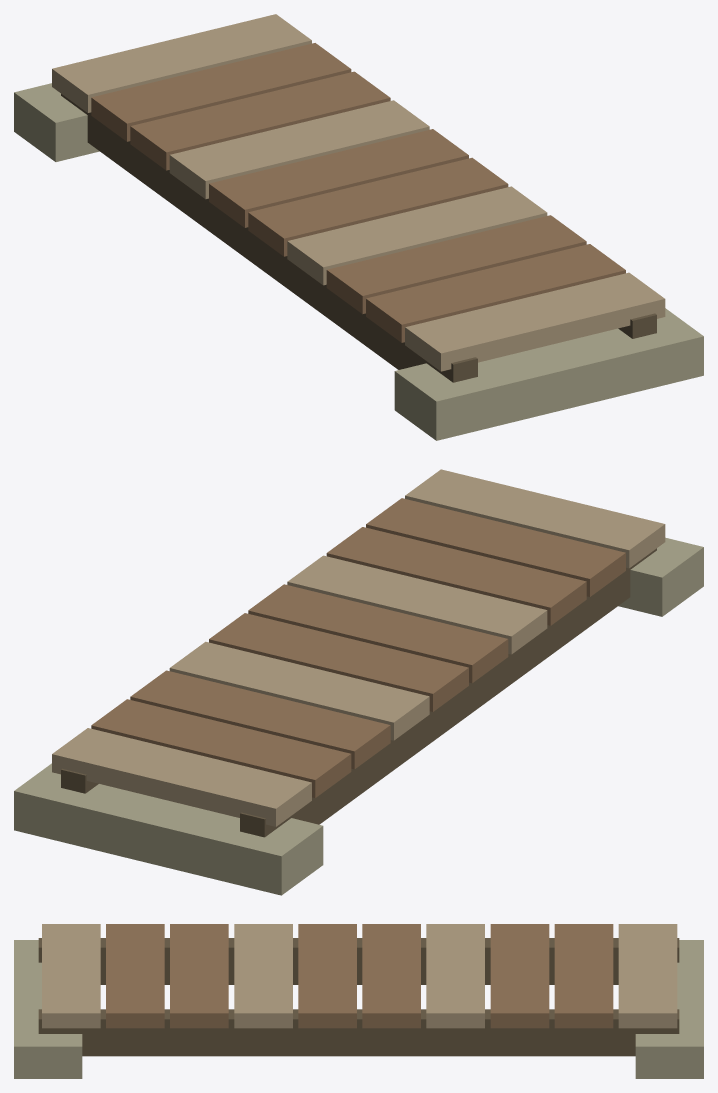
Rendered from ua_plank_bridge.obj.
The picture shows the model from 3 angles, top to bottom: view 1: azimuth 30°, elevation 25°; view 2: azimuth 150°, elevation 25°; view 3: azimuth 270°, elevation 25°; orthographic projection. The views are drawn at different scales.
Parts seen in each view (by area): view 1: ua_plank_bridge; view 2: ua_plank_bridge; view 3: ua_plank_bridge.
Boxes of the visible parts, box(x1,y1,x2,y2) form: ua_plank_bridge: box(14, 14, 703, 440); ua_plank_bridge: box(14, 469, 703, 895); ua_plank_bridge: box(14, 924, 703, 1078).
Size of the model in its own units: 1.85 by 0.46 by 5.06.
